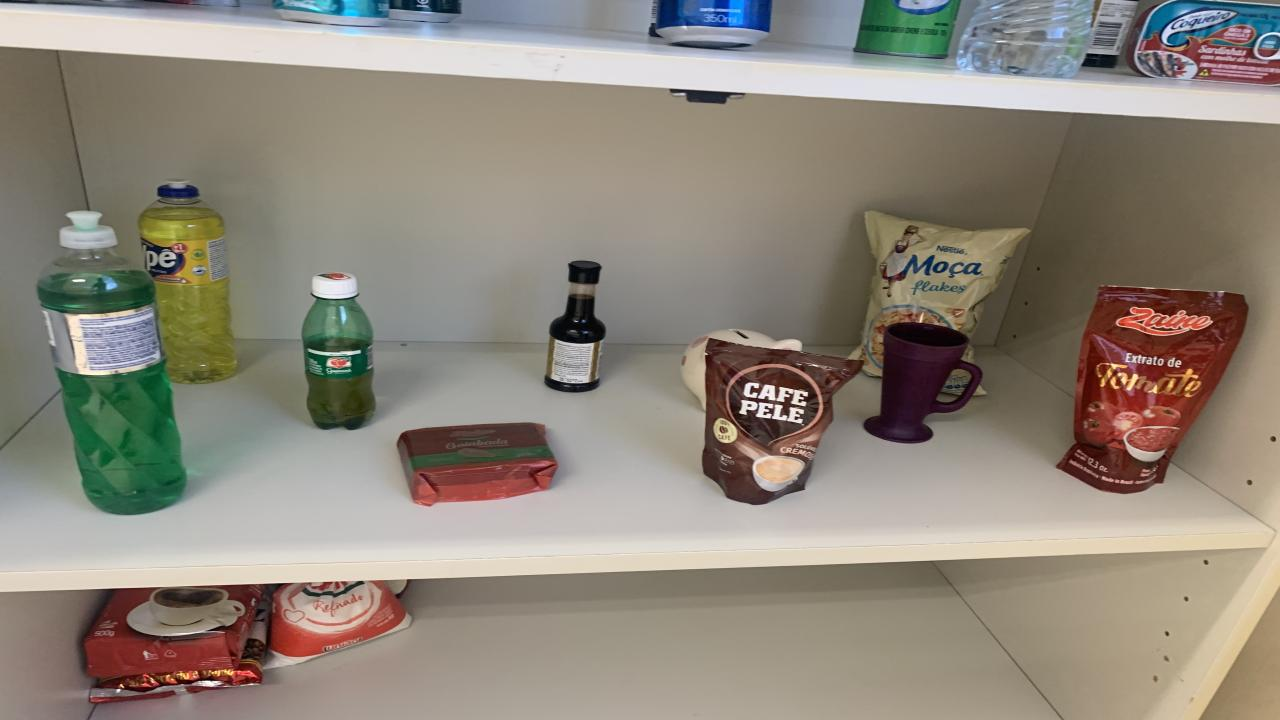Coffee-Pantry_Items: (702, 339, 860, 504)
Detergent-Cleanup_Items: (38, 210, 188, 514), (138, 178, 238, 384)
English_Sauce-Pantry_Items: (545, 261, 605, 392), (1082, 0, 1138, 68)
Flakes-Snacks: (850, 212, 1030, 377), (942, 369, 970, 394), (962, 347, 975, 362), (975, 388, 988, 396)
Guarana-Drinks: (302, 274, 375, 429)
Guarana_Can-Drinks: (390, 0, 462, 22)
Guava-Snacks: (398, 424, 558, 506)
Pig_Safe-Miscellaneous: (680, 330, 802, 409)
Pringles-Snacks: (855, 0, 960, 58)
Tea-Drinks: (272, 0, 390, 26)
Tomato_Sauce-Pantry_Items: (1058, 287, 1248, 493)
Tonic-Drinks: (650, 0, 772, 49)
Tuna_Can-Pantry_Items: (1128, 0, 1280, 86)
Water_Bottle-Drinks: (958, 0, 1092, 77)
